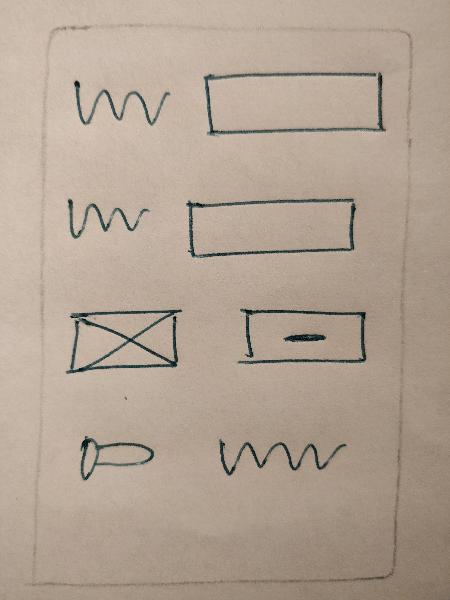button: (228, 301, 373, 379)
image: (59, 306, 192, 374)
switch: (67, 431, 160, 487)
text: (208, 430, 349, 481), (67, 77, 179, 132), (61, 192, 154, 243)
text_input: (197, 68, 387, 144), (180, 194, 360, 265)
